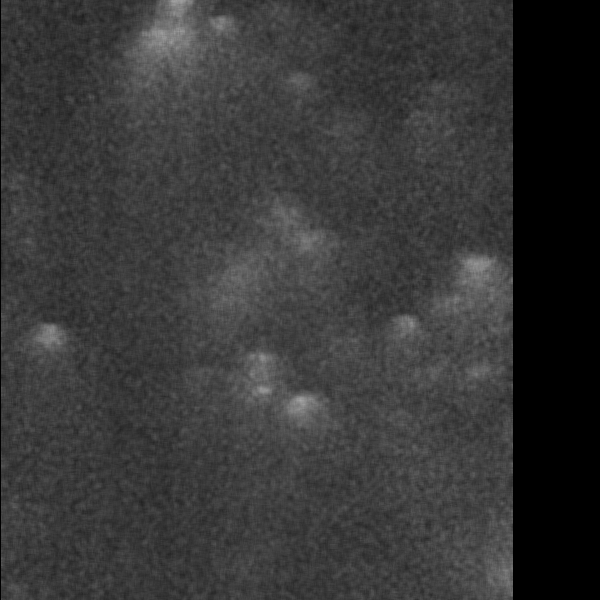spark: (450, 250, 505, 334), (209, 248, 260, 322), (235, 343, 282, 422), (29, 321, 69, 409), (182, 13, 235, 70), (275, 385, 323, 446), (288, 219, 328, 292), (390, 315, 427, 369), (495, 553, 512, 599)
